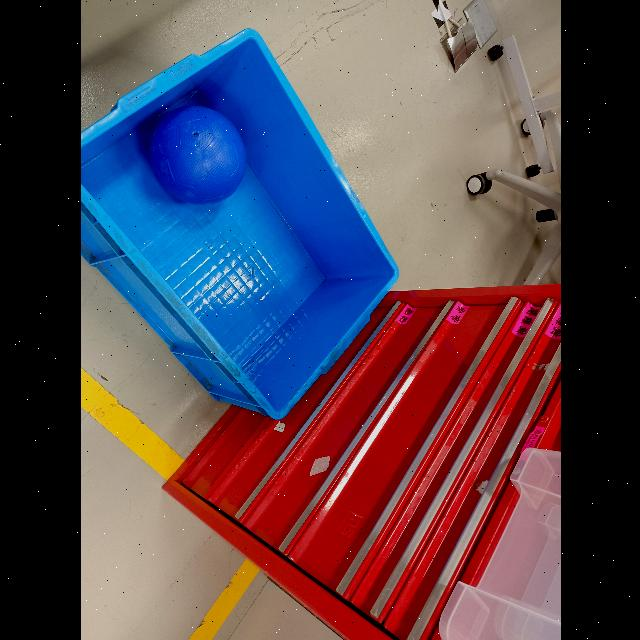B: (147, 106, 245, 204)
